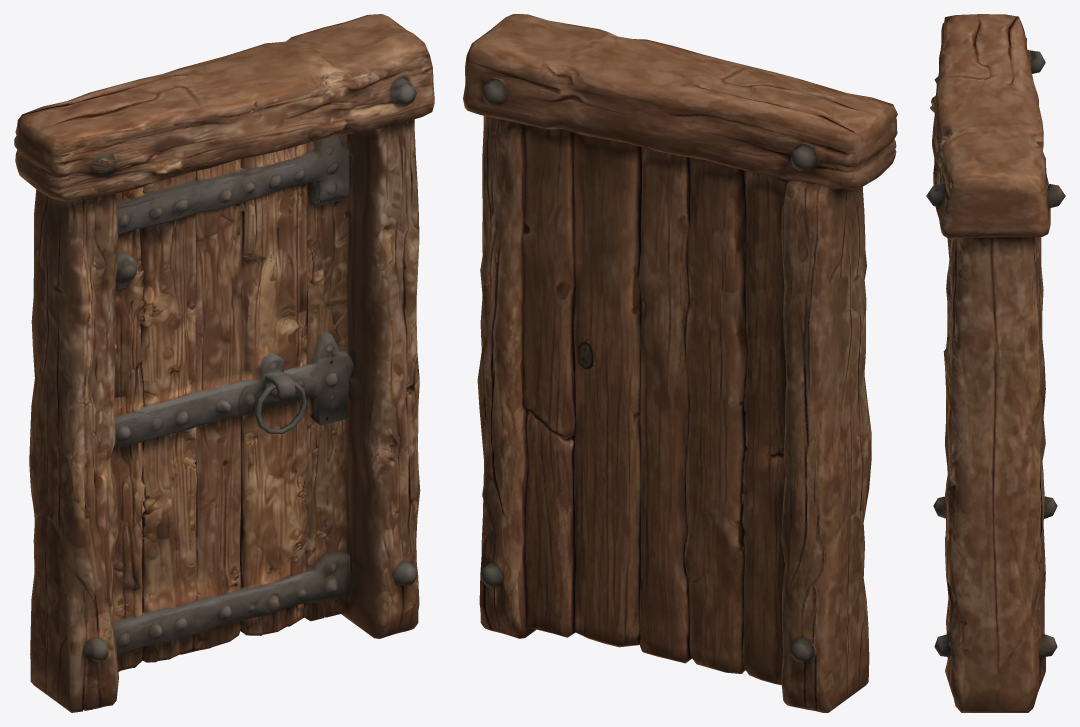
The model's file is door.glb.
3 views of the same model, side by side, from view 1: azimuth 30°, elevation 25°; view 2: azimuth 150°, elevation 25°; view 3: azimuth 270°, elevation 25° (orthographic). The views are drawn at different scales.
Visible parts, largest first — view 1: tripo_node_2f5e0ded-7f18-4823-84e6-2d86aa87430b; view 2: tripo_node_2f5e0ded-7f18-4823-84e6-2d86aa87430b; view 3: tripo_node_2f5e0ded-7f18-4823-84e6-2d86aa87430b.
Part boxes in pixels (<box>): tripo_node_2f5e0ded-7f18-4823-84e6-2d86aa87430b: <box>14,14,434,712</box>; tripo_node_2f5e0ded-7f18-4823-84e6-2d86aa87430b: <box>463,14,897,712</box>; tripo_node_2f5e0ded-7f18-4823-84e6-2d86aa87430b: <box>926,14,1065,712</box>.
Size of the model in its own units: 0.6715 by 0.9776 by 0.2277.
Materials: 1 (1 with a texture image).
